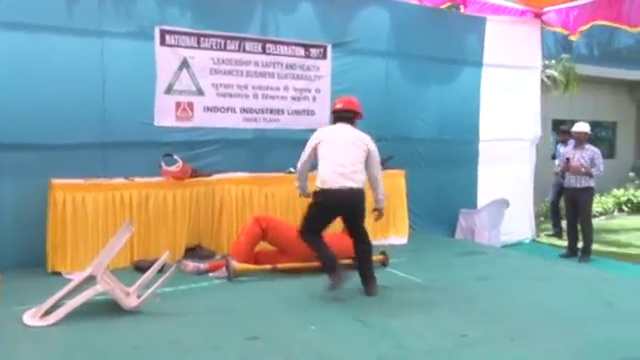helmet: (330, 92, 365, 119), (571, 119, 592, 135)
helmet_off: (558, 121, 571, 144)
helmet_on: (329, 92, 365, 128), (569, 117, 591, 147)
person: (296, 92, 386, 298), (184, 214, 363, 275), (559, 121, 604, 263), (548, 122, 569, 238)
